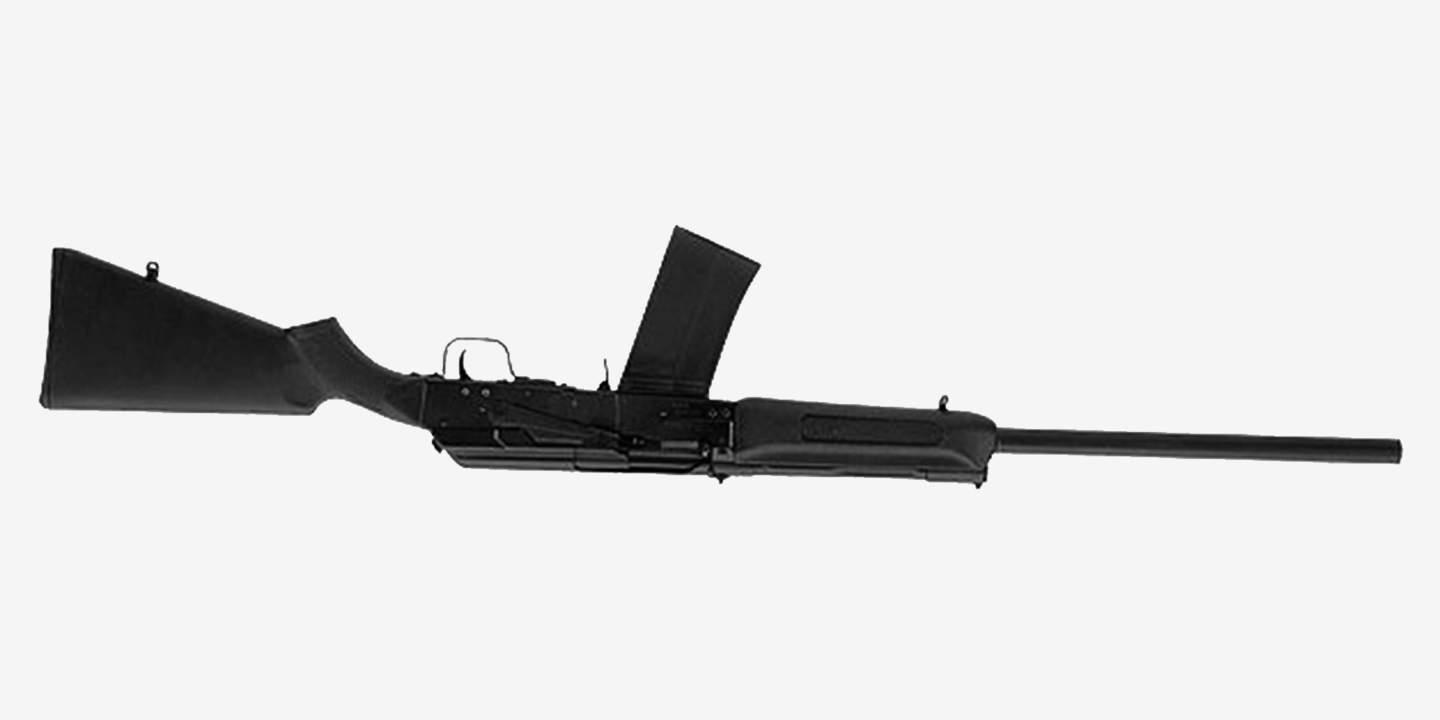larga: (36, 225, 1407, 494)
